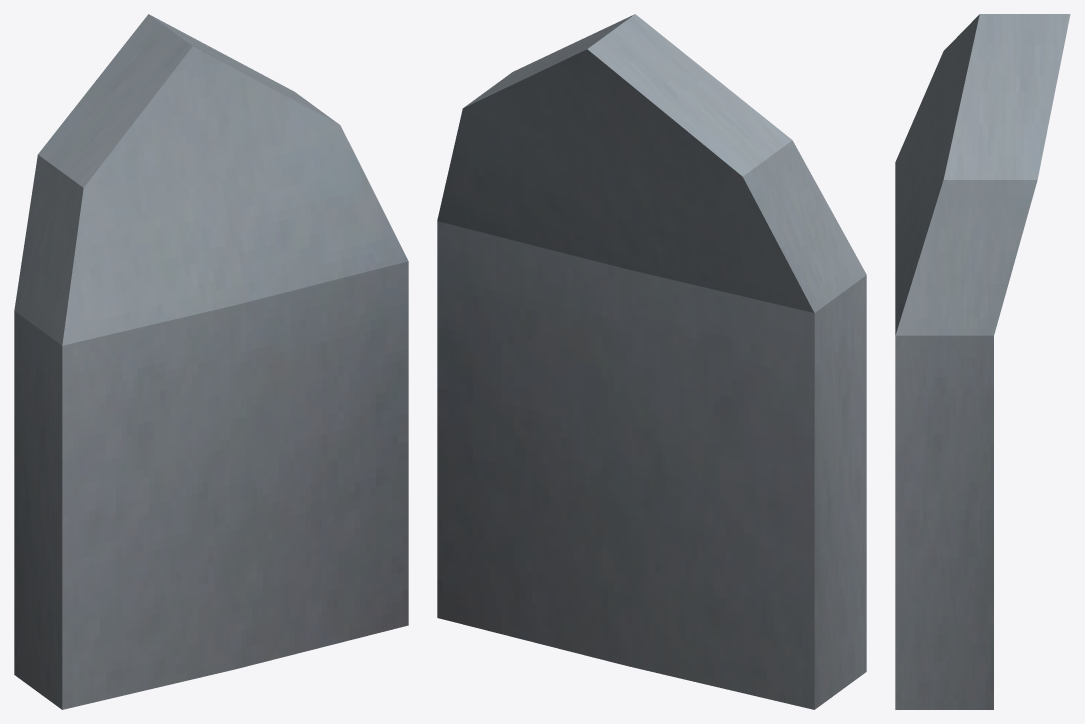
File: HouseDoor.fbx
The picture shows the model from 3 angles, left to right: view 1: azimuth 30°, elevation 25°; view 2: azimuth 150°, elevation 25°; view 3: azimuth 270°, elevation 25°; orthographic projection. The views are drawn at different scales.
Visible parts, largest first — view 1: Door; view 2: Door; view 3: Door.
Boxes of the visible parts, x1,y1,x2,y2 form: Door: [14, 14, 408, 709]; Door: [437, 14, 866, 709]; Door: [895, 14, 1070, 709].
Size of the model in its own units: 462 by 757 by 197.
1 material, 1 textured.
